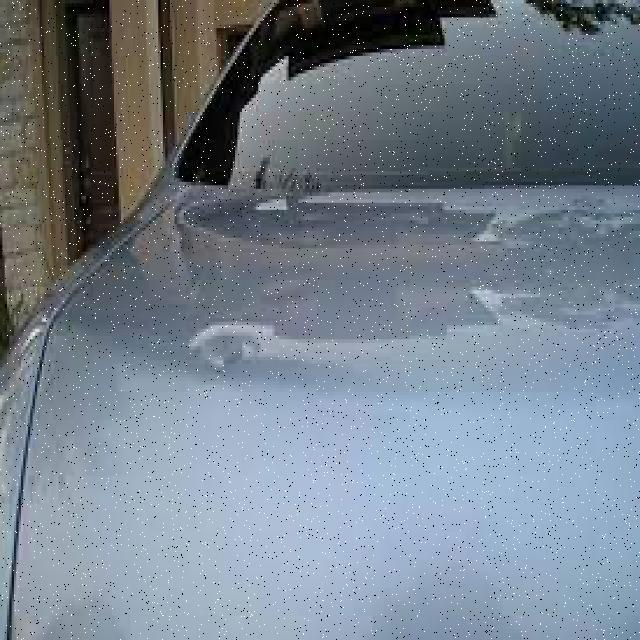bonnet-dent: (25, 230, 638, 636)
